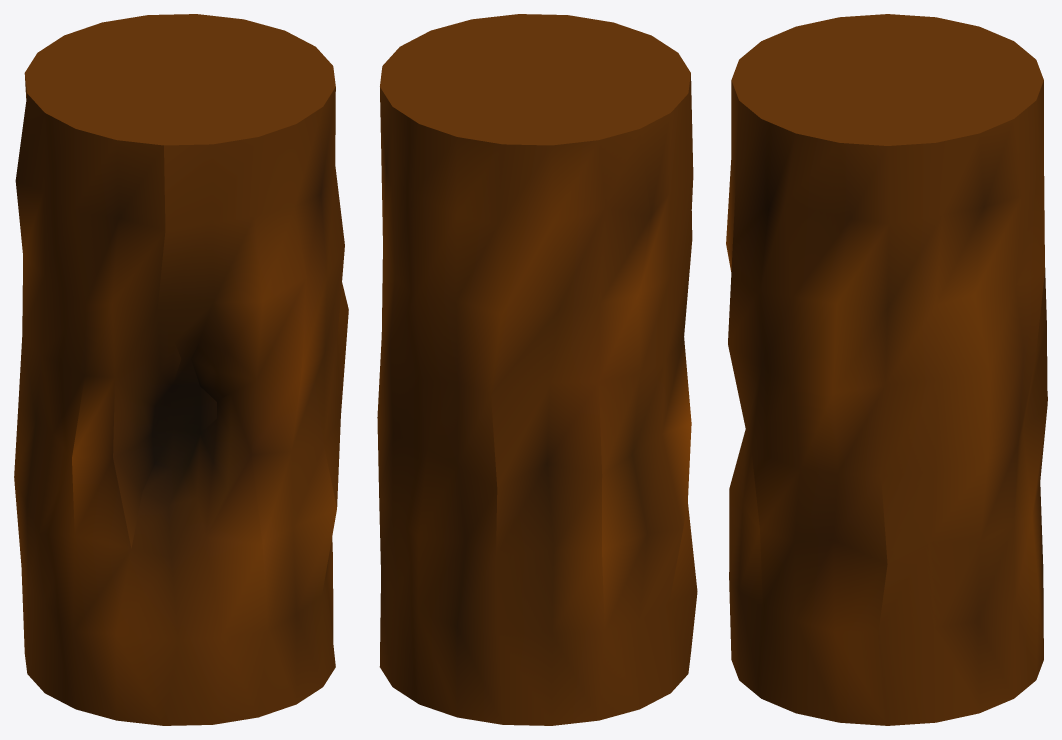
The model's file is TreeMiddle2.fbx.
3 renders of one model, left to right at view 1: azimuth 30°, elevation 25°; view 2: azimuth 150°, elevation 25°; view 3: azimuth 270°, elevation 25°, orthographic.
Visible parts, largest first — view 1: TreeMiddle2; view 2: TreeMiddle2; view 3: TreeMiddle2.
Part boxes in pixels (left/top/right/bottom): TreeMiddle2: left=14, top=14, right=348, bottom=725; TreeMiddle2: left=377, top=14, right=697, bottom=725; TreeMiddle2: left=726, top=14, right=1047, bottom=725.
Bounding box in the file's own units: 202 × 383 × 192.
